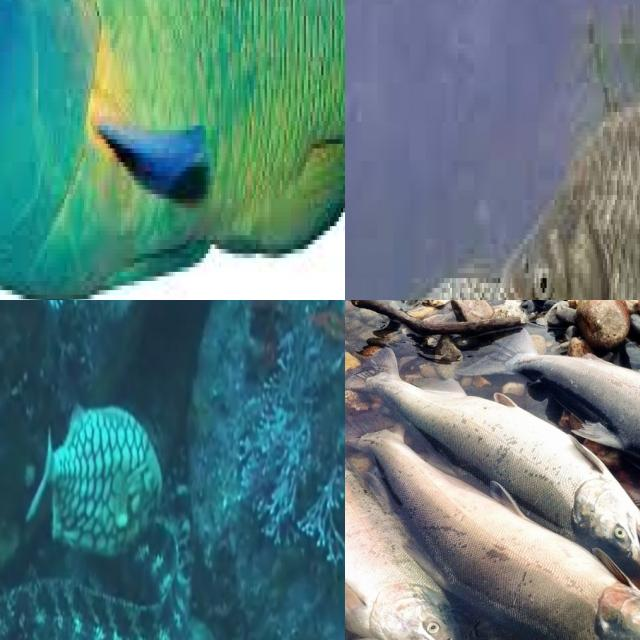fish: (0, 0, 345, 300), (456, 318, 640, 531), (490, 58, 640, 300), (27, 398, 162, 564)
